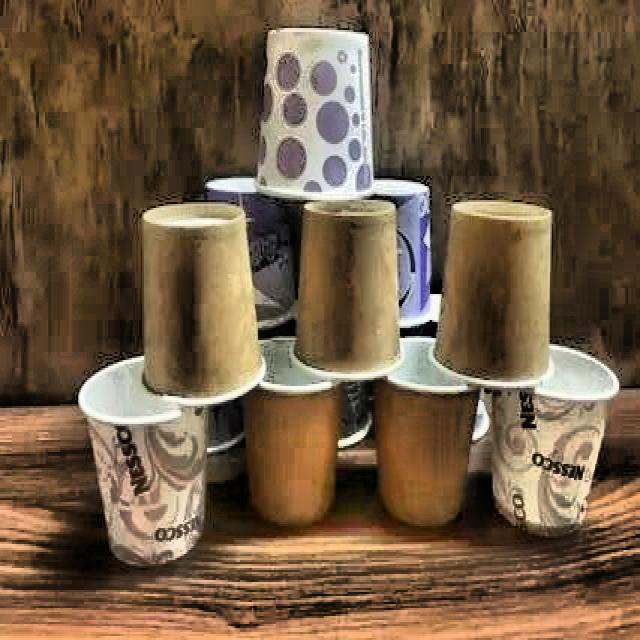Cup: (68, 345, 225, 569), (488, 315, 623, 548), (254, 16, 395, 224), (139, 210, 272, 413), (370, 320, 478, 538), (441, 195, 558, 396), (231, 332, 344, 527), (296, 200, 409, 381)
